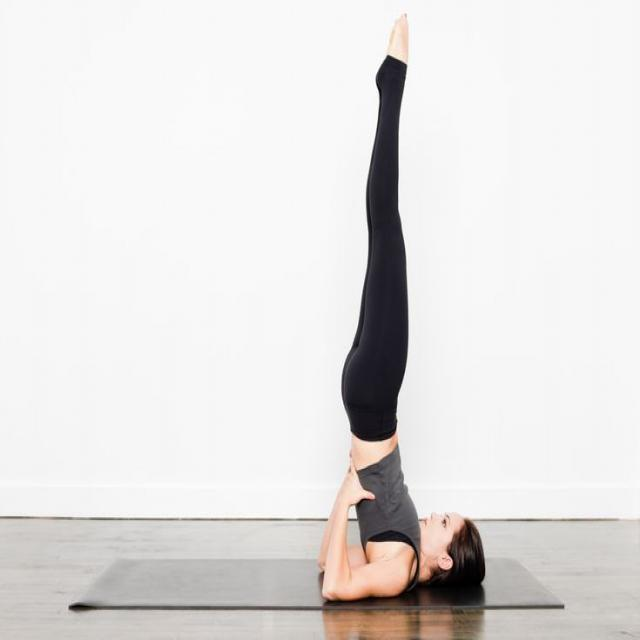yoga-pose shoulderstand: (322, 15, 486, 612)
